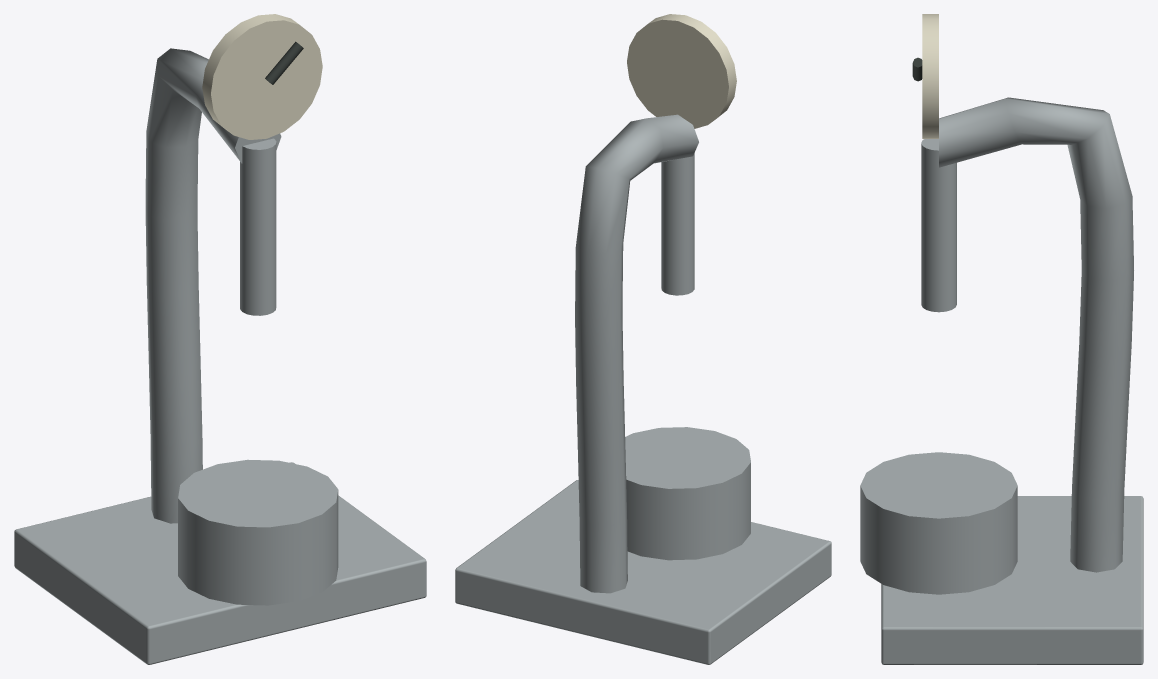
Rendered from research-and-crafting-progression-hardness-test-stand-b5424e4e__2881.glb.
3 renders of one model, left to right at view 1: azimuth 30°, elevation 25°; view 2: azimuth 150°, elevation 25°; view 3: azimuth 270°, elevation 25°, orthographic. The views are drawn at different scales.
Parts seen in each view (by area): view 1: hardness-test-stand; view 2: hardness-test-stand; view 3: hardness-test-stand.
Part boxes in pixels (left/top/right/bottom): hardness-test-stand: left=14, top=14, right=426, bottom=664; hardness-test-stand: left=455, top=14, right=831, bottom=664; hardness-test-stand: left=860, top=14, right=1143, bottom=664.
Bounding box in the file's own units: 0.3 × 0.61 × 0.27.
